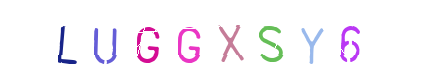6: (231, 0, 311, 80)
G: (107, 0, 187, 80), (175, 0, 255, 80)
L: (23, 0, 103, 80)
S: (209, 0, 289, 80)
U: (60, 0, 140, 80)
X: (178, 0, 258, 80)
Y: (222, 0, 302, 80)
